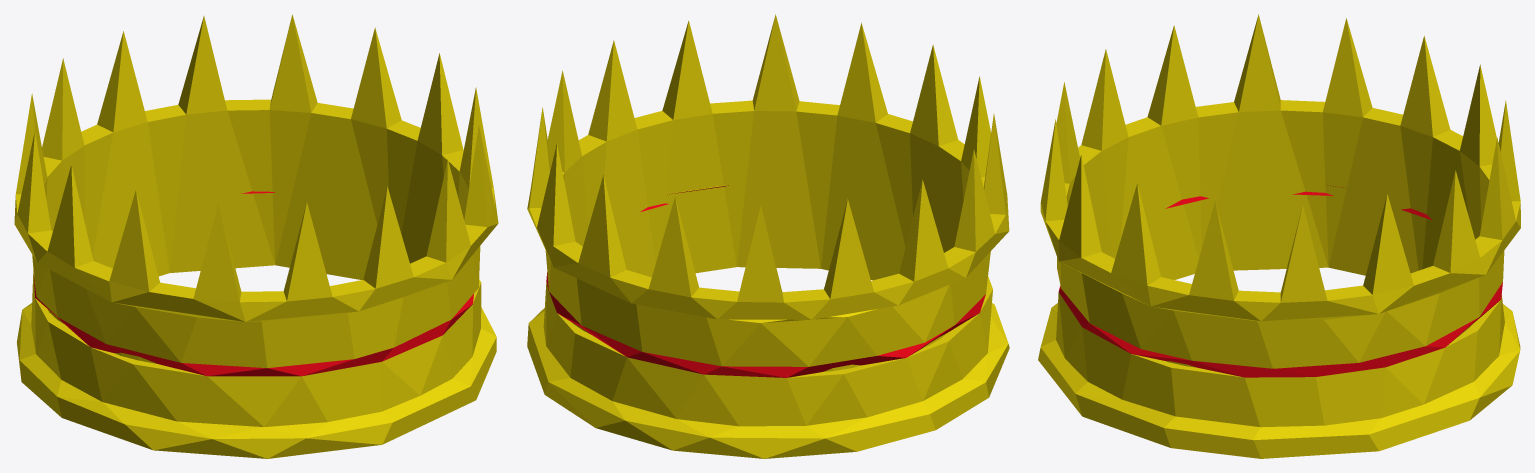
File: Crown.fbx
3 views of the same model, side by side, from view 1: azimuth 30°, elevation 25°; view 2: azimuth 150°, elevation 25°; view 3: azimuth 270°, elevation 25° (orthographic).
Visible parts, largest first — view 1: Circle; view 2: Circle; view 3: Circle.
Part boxes in pixels (box(x1,y1,x2,y2)): Circle: box(14, 14, 498, 458); Circle: box(527, 14, 1009, 458); Circle: box(1038, 14, 1520, 458).
Bounding box in the file's own units: 3.42 × 1.95 × 3.44.
